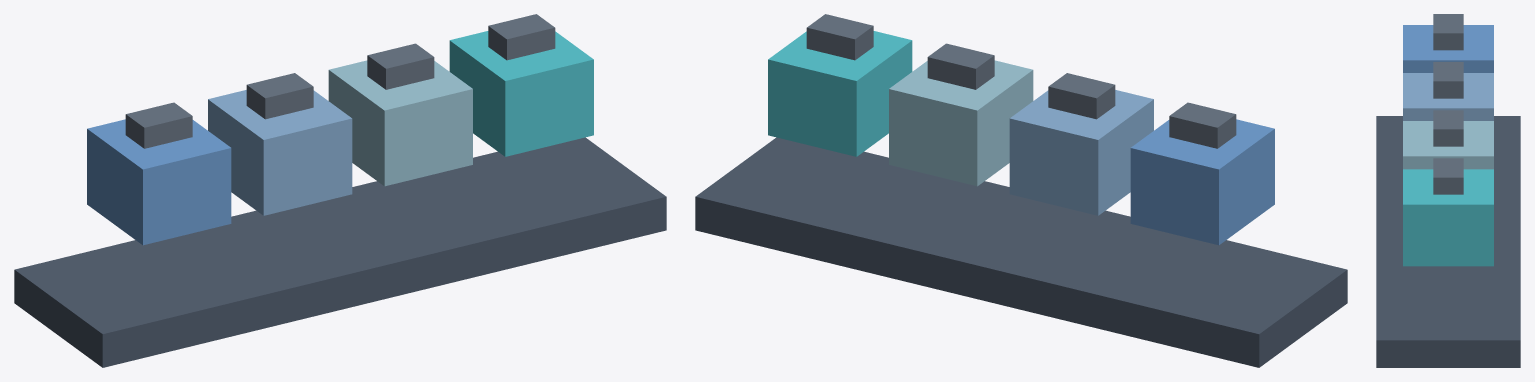
The model's file is ArreglosListas.glb.
The picture shows the model from 3 angles, left to right: view 1: azimuth 30°, elevation 25°; view 2: azimuth 150°, elevation 25°; view 3: azimuth 270°, elevation 25°; orthographic projection. The views are drawn at different scales.
Parts seen in each view (by area): view 1: n0, n1, n3, n7, n5, n8, n2, n4, n6; view 2: n0, n1, n3, n7, n5, n8, n2, n4, n6; view 3: n0, n7, n5, n3, n1, n2, n4, n6, n8.
Part boxes in pixels (left/top/right/bottom): n0: left=14, top=137, right=666, bottom=367; n1: left=87, top=119, right=231, bottom=245; n3: left=208, top=90, right=352, bottom=215; n7: left=449, top=31, right=593, bottom=156; n5: left=328, top=60, right=472, bottom=186; n8: left=488, top=14, right=555, bottom=60; n2: left=125, top=102, right=192, bottom=148; n4: left=246, top=73, right=313, bottom=119; n6: left=367, top=43, right=434, bottom=89; n0: left=695, top=137, right=1347, bottom=367; n1: left=1130, top=119, right=1274, bottom=245; n3: left=1009, top=90, right=1153, bottom=215; n7: left=768, top=31, right=912, bottom=156; n5: left=889, top=60, right=1033, bottom=186; n8: left=806, top=14, right=873, bottom=60; n2: left=1169, top=102, right=1236, bottom=148; n4: left=1048, top=73, right=1115, bottom=119; n6: left=927, top=43, right=994, bottom=89; n0: left=1376, top=116, right=1520, bottom=367; n7: left=1403, top=169, right=1493, bottom=266; n5: left=1403, top=121, right=1493, bottom=169; n3: left=1403, top=73, right=1493, bottom=120; n1: left=1403, top=25, right=1493, bottom=72; n2: left=1433, top=14, right=1463, bottom=50; n4: left=1433, top=62, right=1463, bottom=98; n6: left=1433, top=110, right=1463, bottom=146; n8: left=1433, top=158, right=1463, bottom=194.
Bounding box in the file's own units: 1.4 × 0.465 × 0.38.
